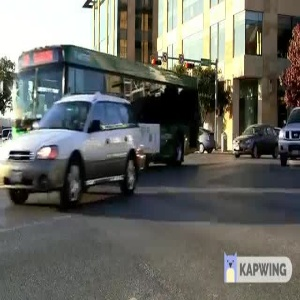bus: (7, 44, 199, 168)
car: (3, 94, 141, 211), (228, 121, 278, 159)
